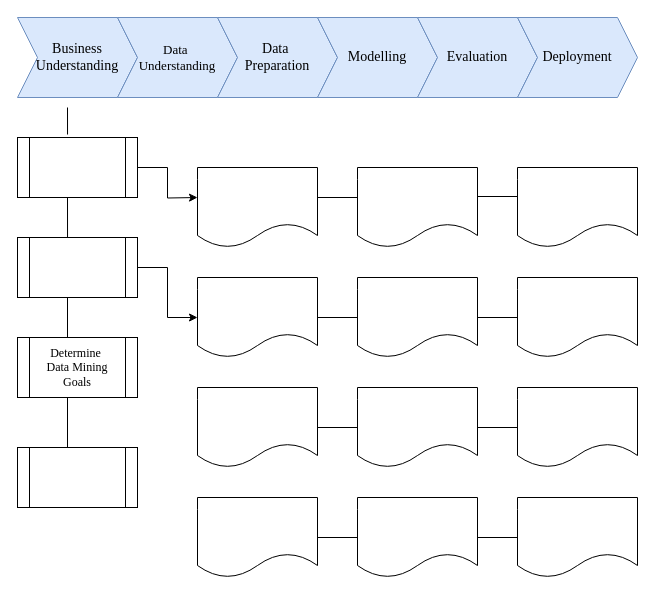
Some shapes in this 655 by 595 pixel diagram are drawn without their labels. Each missing label, with the box of its shape:
Assess Situation: (16, 236, 138, 298)
Determine Business Objectives: (16, 136, 138, 198)
Produce Project Plan: (16, 446, 138, 508)
